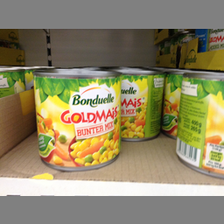corn: (34, 67, 122, 170), (175, 72, 224, 179), (115, 67, 166, 142)
